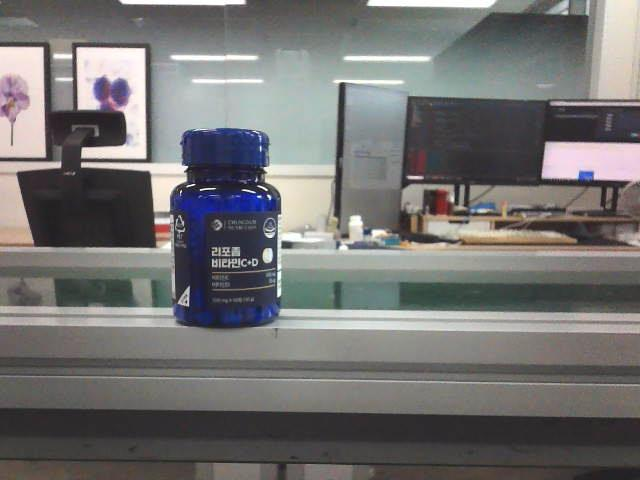labeled: (168, 124, 284, 332)
